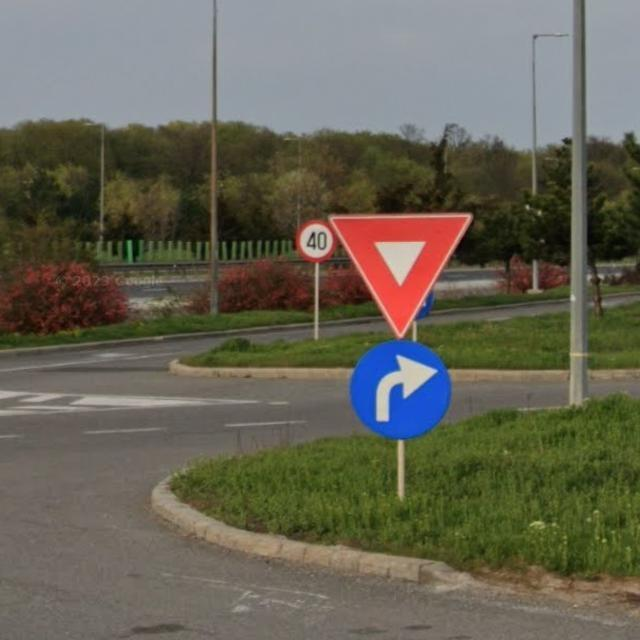forb_speed_over_40: (295, 220, 337, 263)
prio_give_way: (330, 214, 473, 339), (349, 340, 451, 441)
